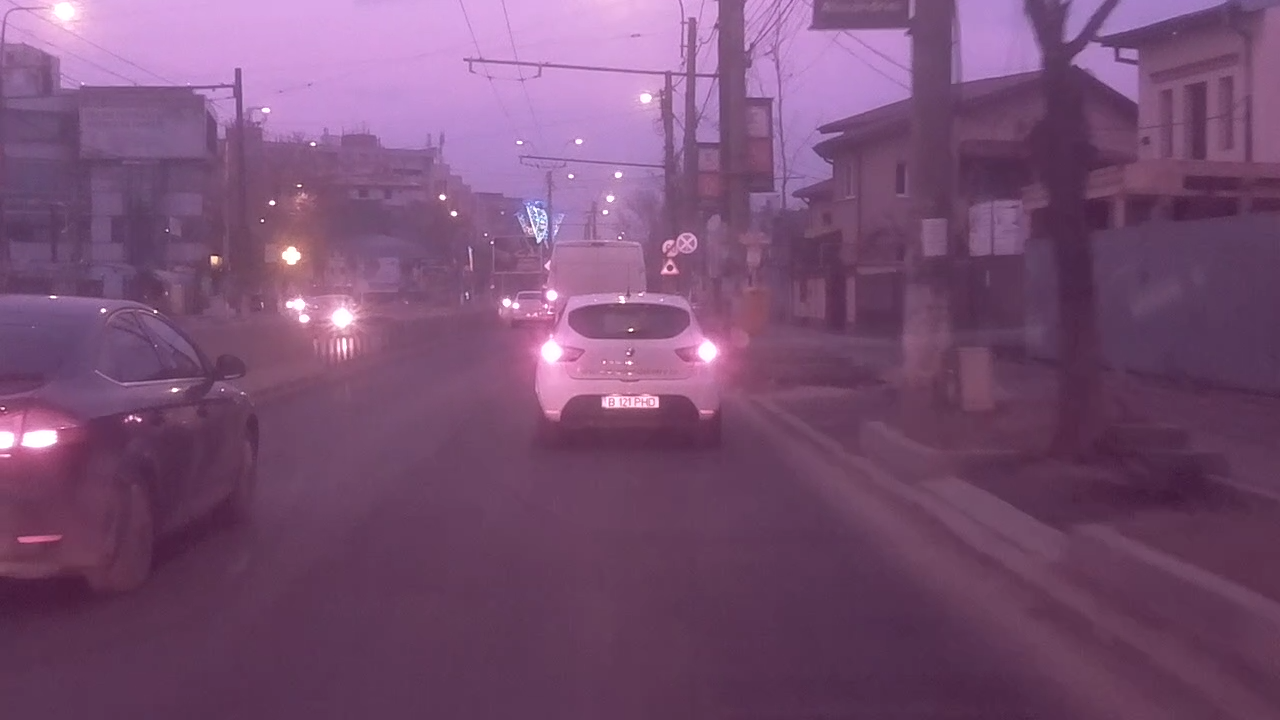license-plate: (597, 393, 661, 411)
